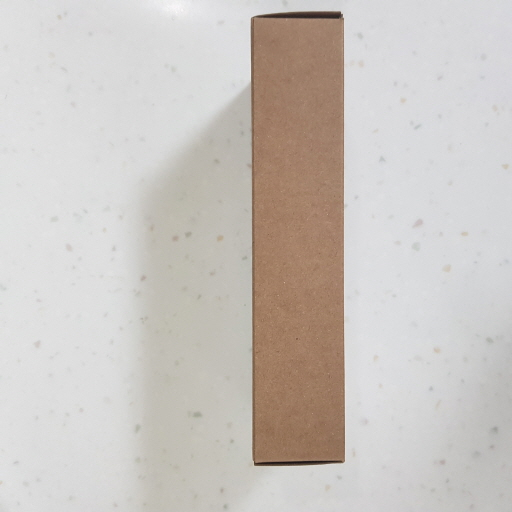Paper_0: (246, 7, 351, 467)
